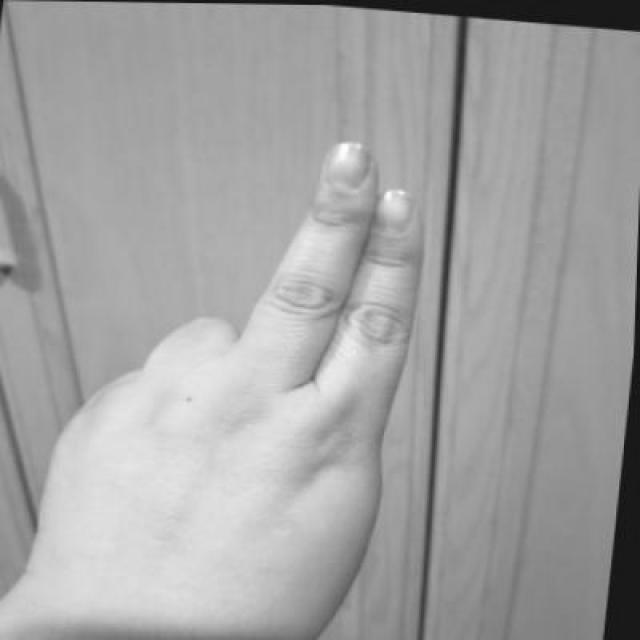U: (2, 108, 451, 639)
